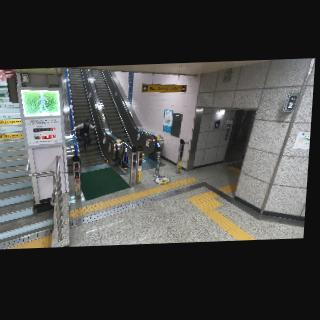normal: (71, 118, 98, 153)
